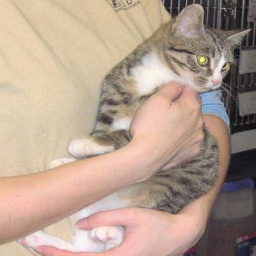cat: (21, 2, 248, 251)
